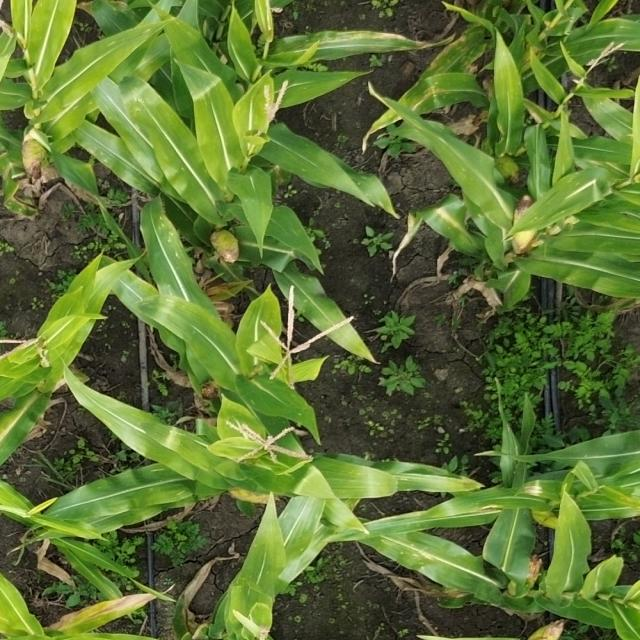northern-leaf-blight: (347, 30, 496, 103), (505, 472, 577, 511)
southern-leaf-blight: (386, 532, 467, 581), (526, 183, 602, 235), (149, 211, 212, 273), (116, 85, 176, 139), (286, 276, 332, 328), (131, 292, 201, 325)
